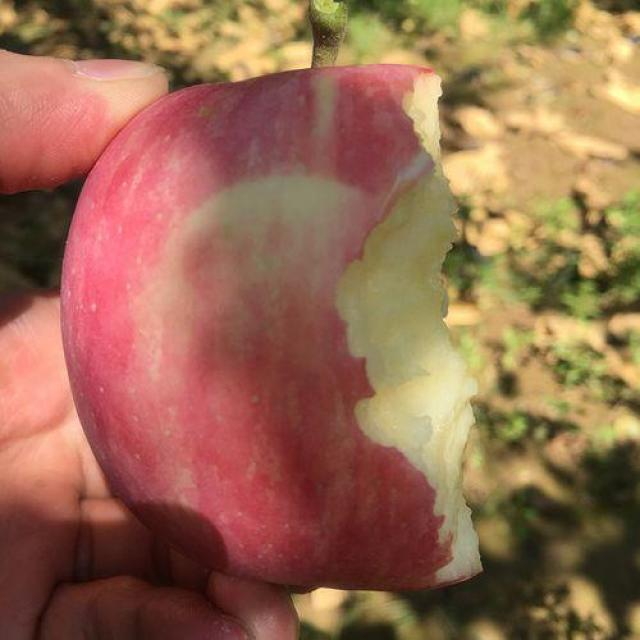Rotten: (68, 75, 494, 611)
